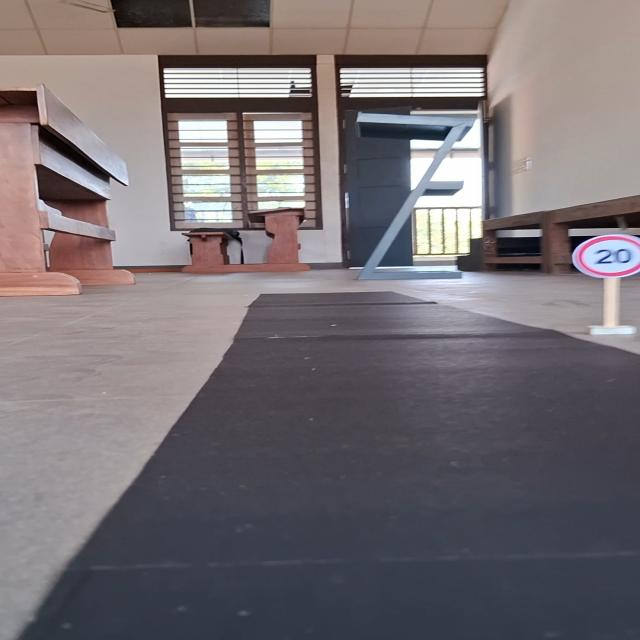Speed20: (568, 229, 640, 282)
